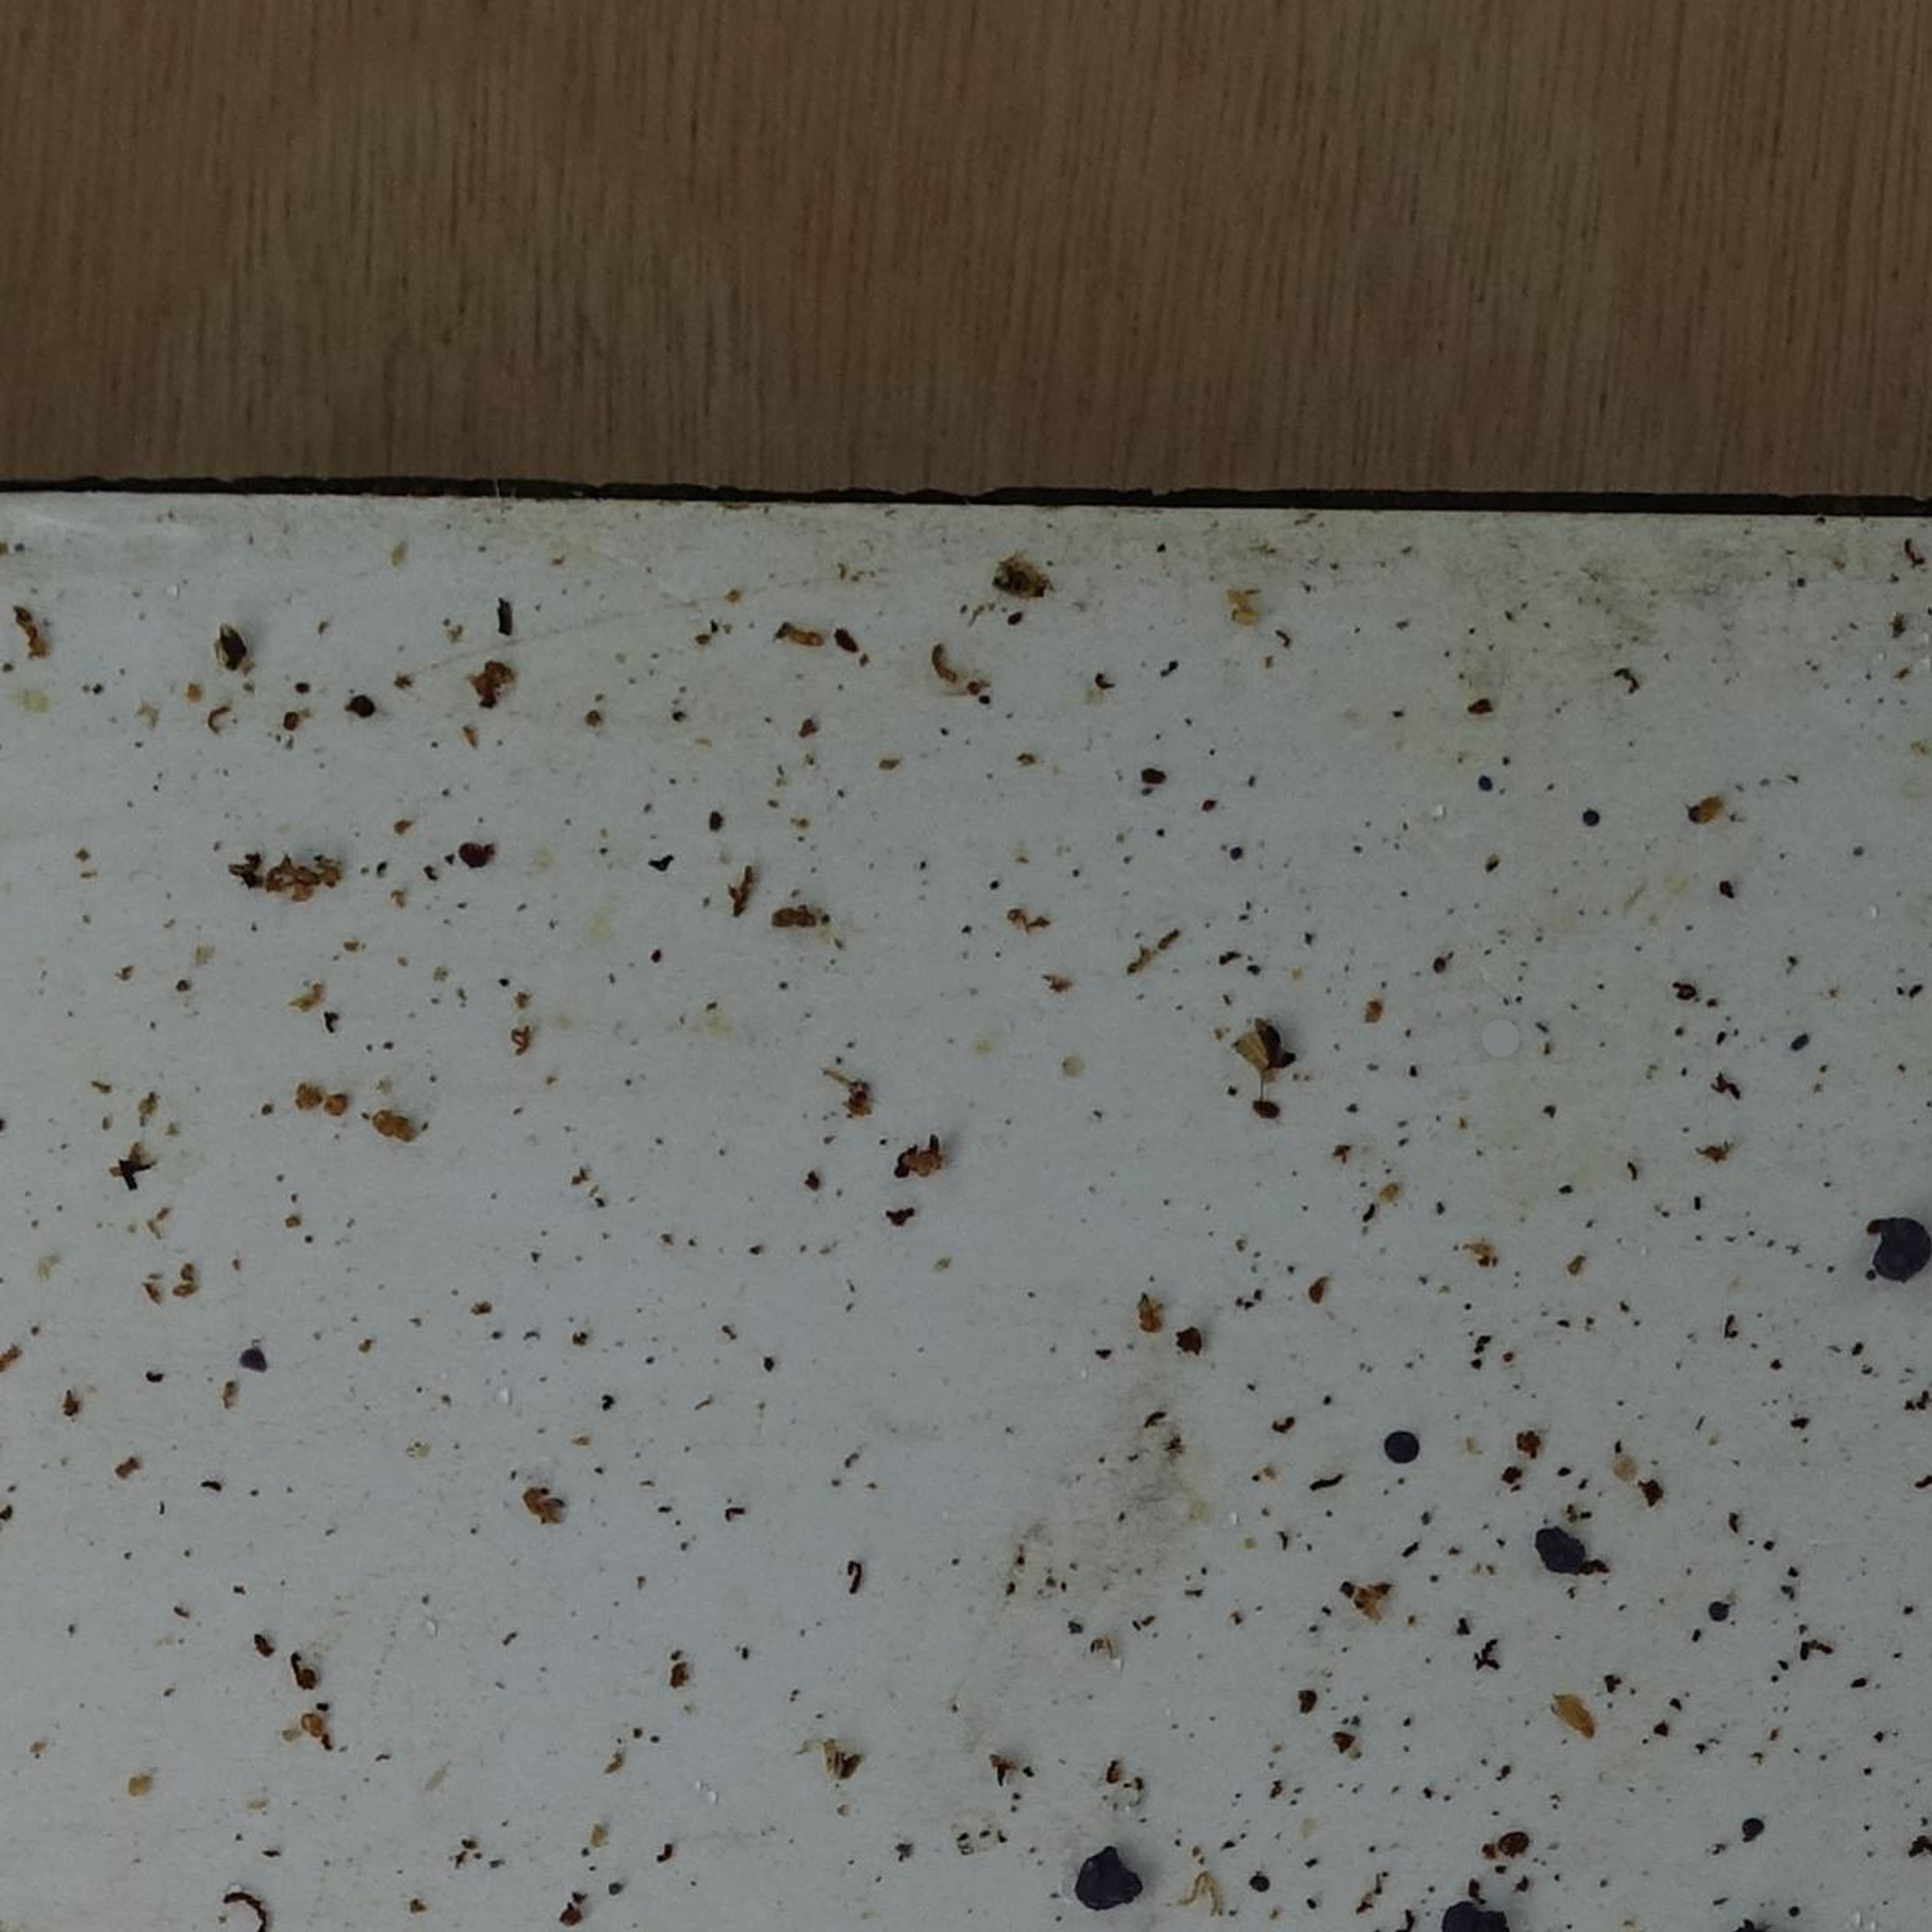Varroa: (1502, 1828, 1532, 1858), (460, 844, 488, 872)
